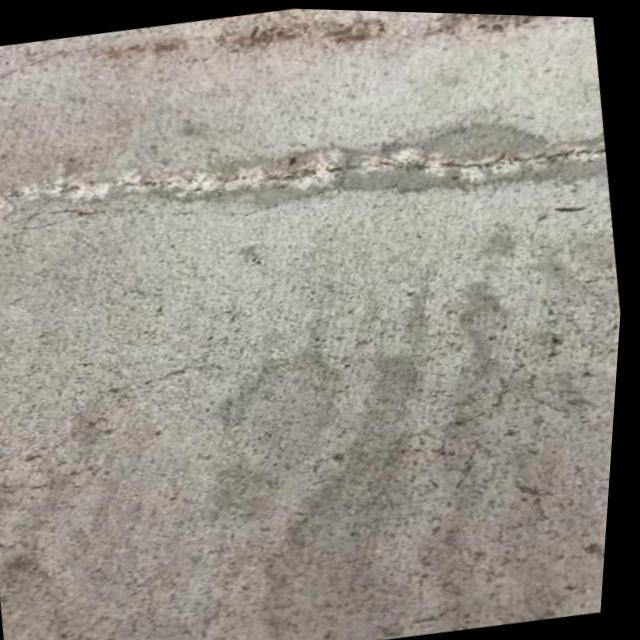Crack: (148, 107, 535, 232), (206, 5, 385, 61)
